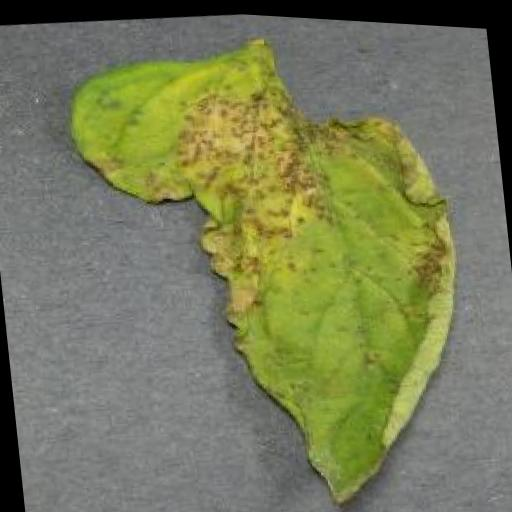Bacterial Spot: (59, 3, 500, 512)
